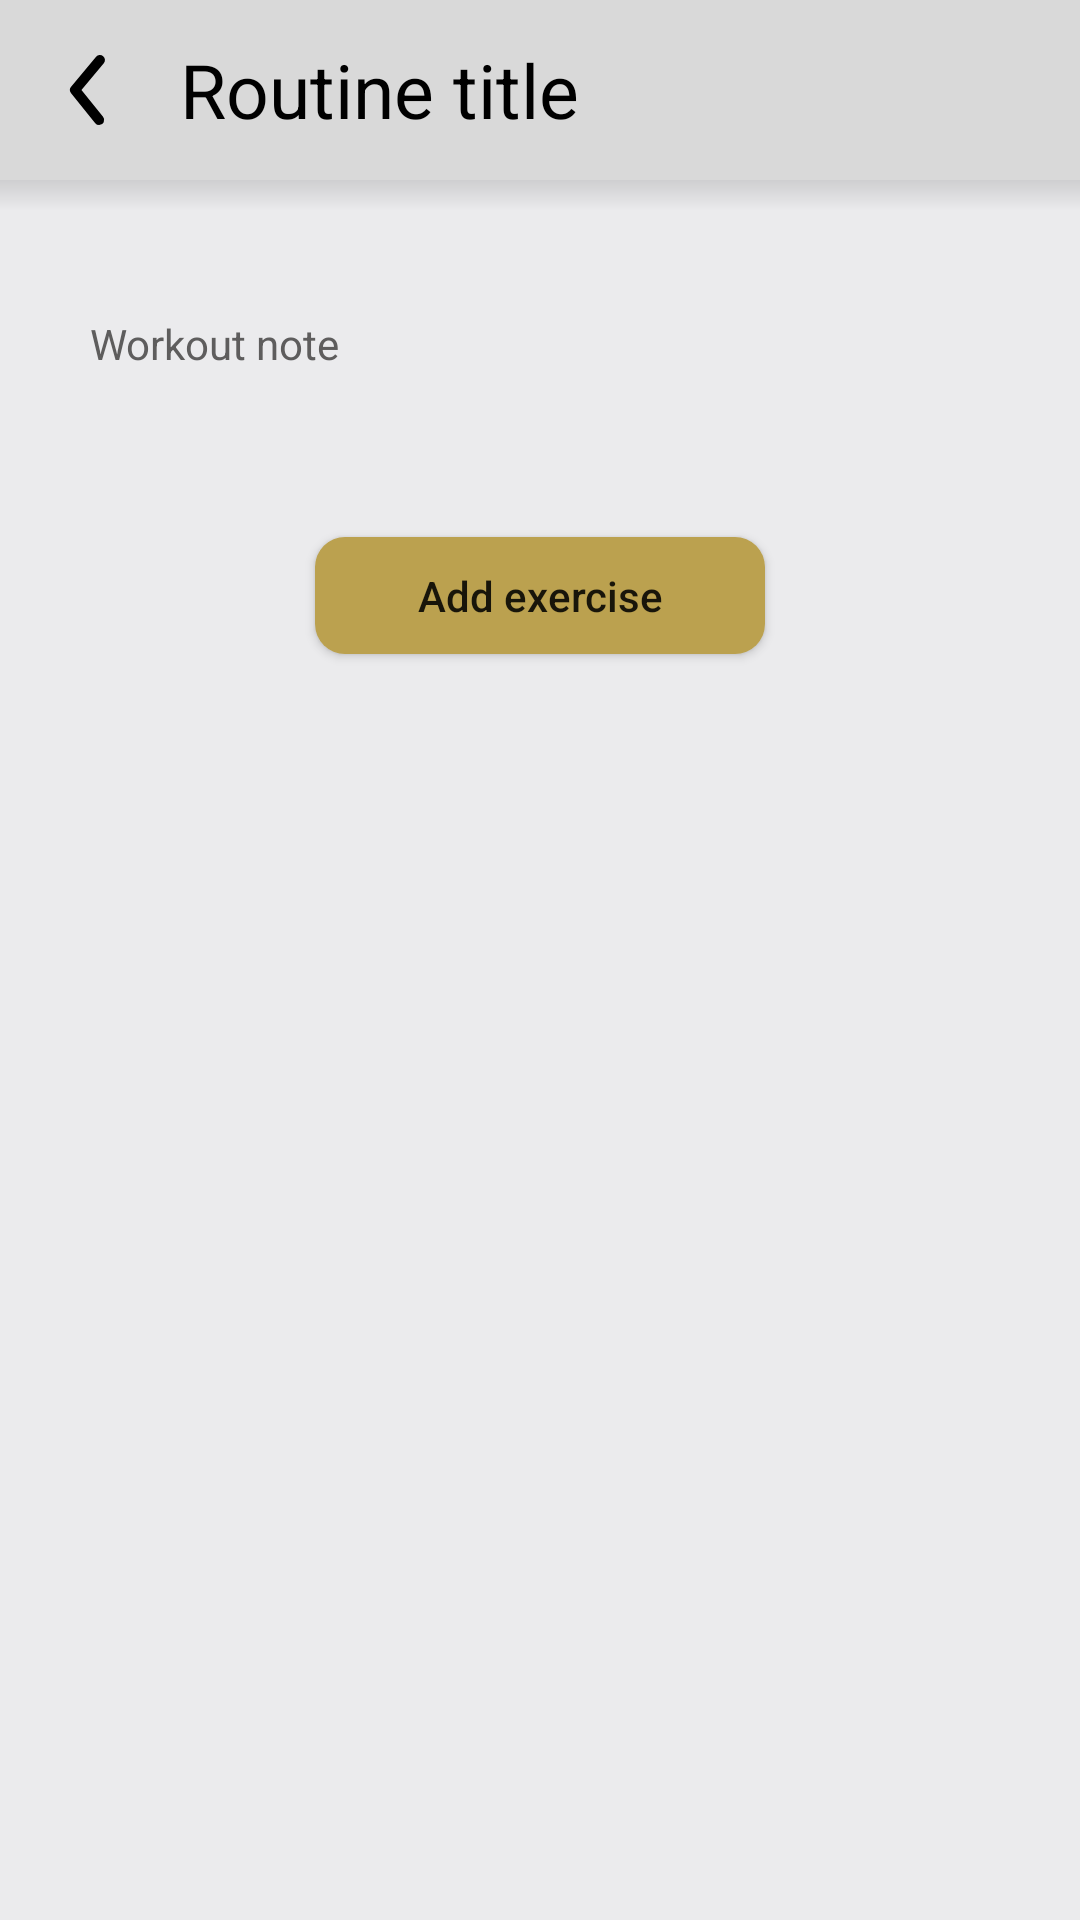

Named icons in this screenshot (1080w x 1920h) and their bounding boxes, {"left": x1, "top": y1, "right": x2, "bottom": y2}:
back arrow: {"left": 69, "top": 55, "right": 105, "bottom": 125}
